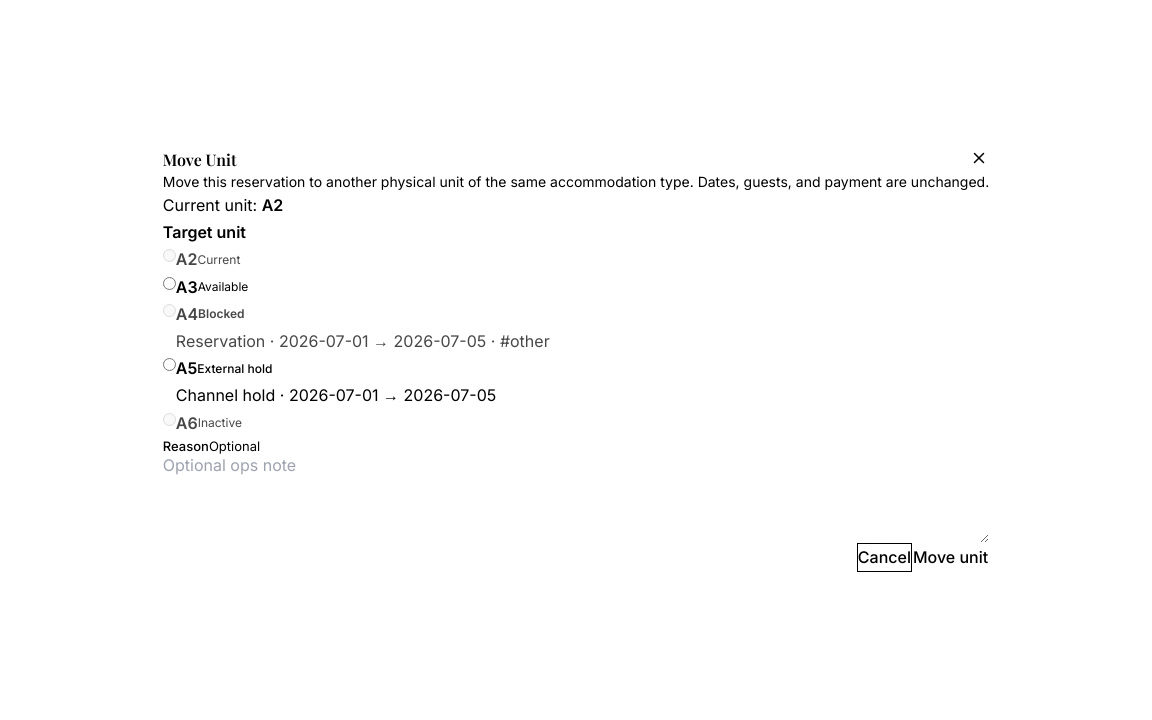
Test: MoveUnitDialog behavior › reuses idempotency key across submit retries and does not mint on each click
Expected: the text "A3" is shown, [176, 274, 198, 301]
Click the radio button showing "u-avail".
click(169, 283)  # box [163, 277, 176, 290]
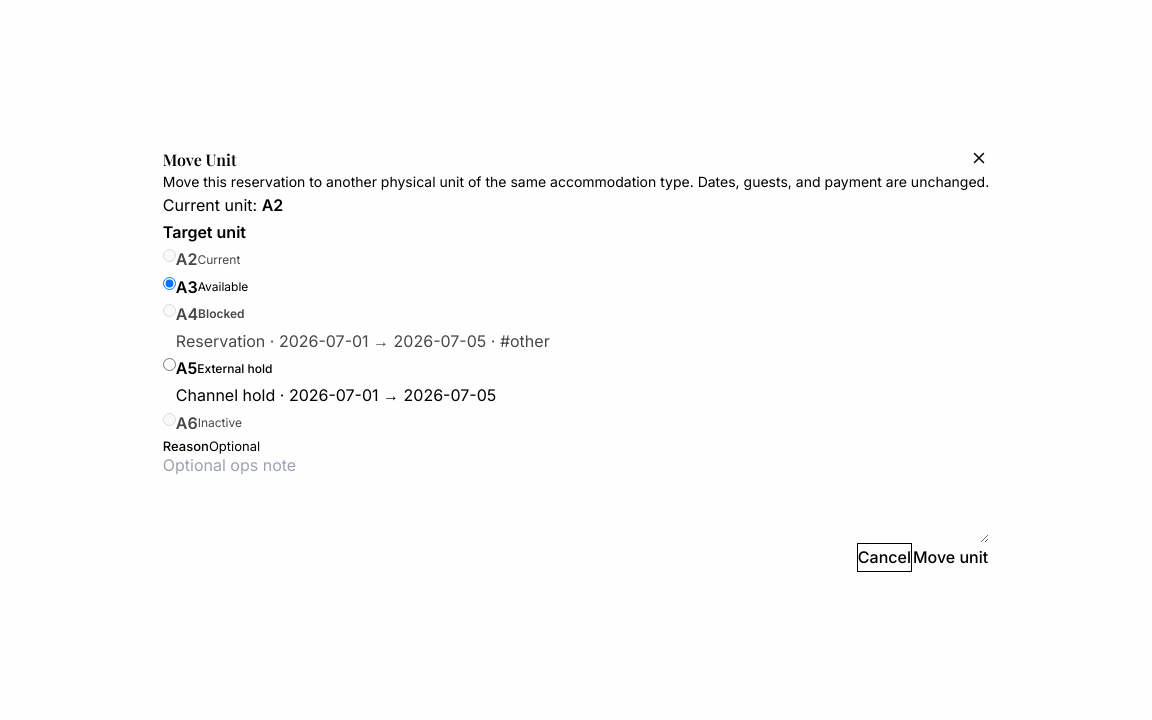
Click the button "Move unit".
click(951, 557)  # box [912, 543, 989, 572]
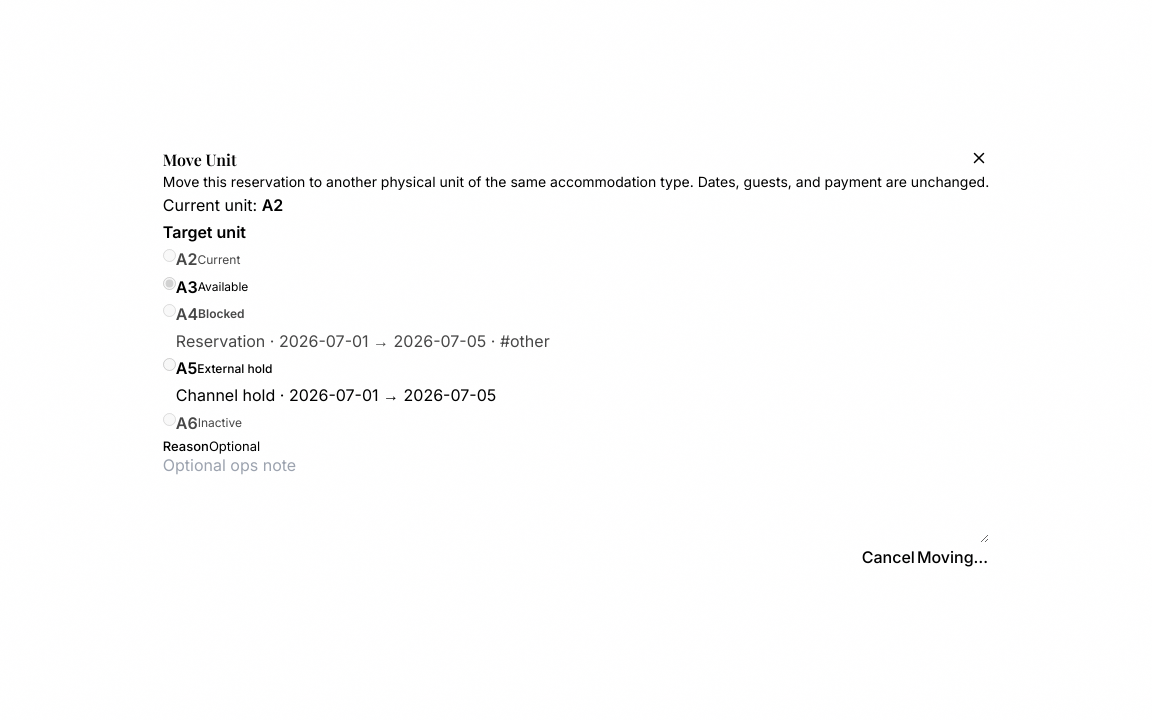
# second click while busy should not fire another request
Click the button named "Move unit".
click(953, 557)  # box [916, 543, 989, 572]
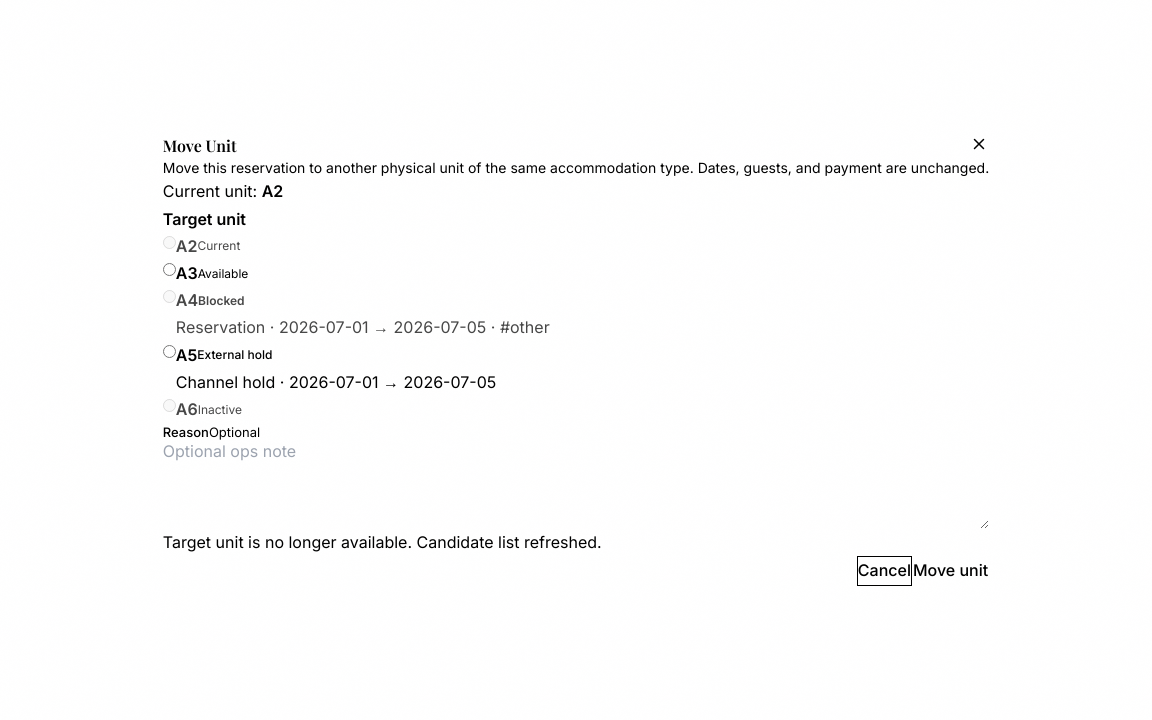
Result: the text "no longer available" is shown at [163, 532, 602, 552]
